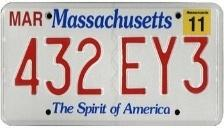2: (75, 35, 105, 97)
3: (181, 34, 212, 95), (45, 35, 74, 97)
4: (13, 35, 43, 98)
E: (119, 35, 150, 97)
Y: (149, 34, 182, 97)
